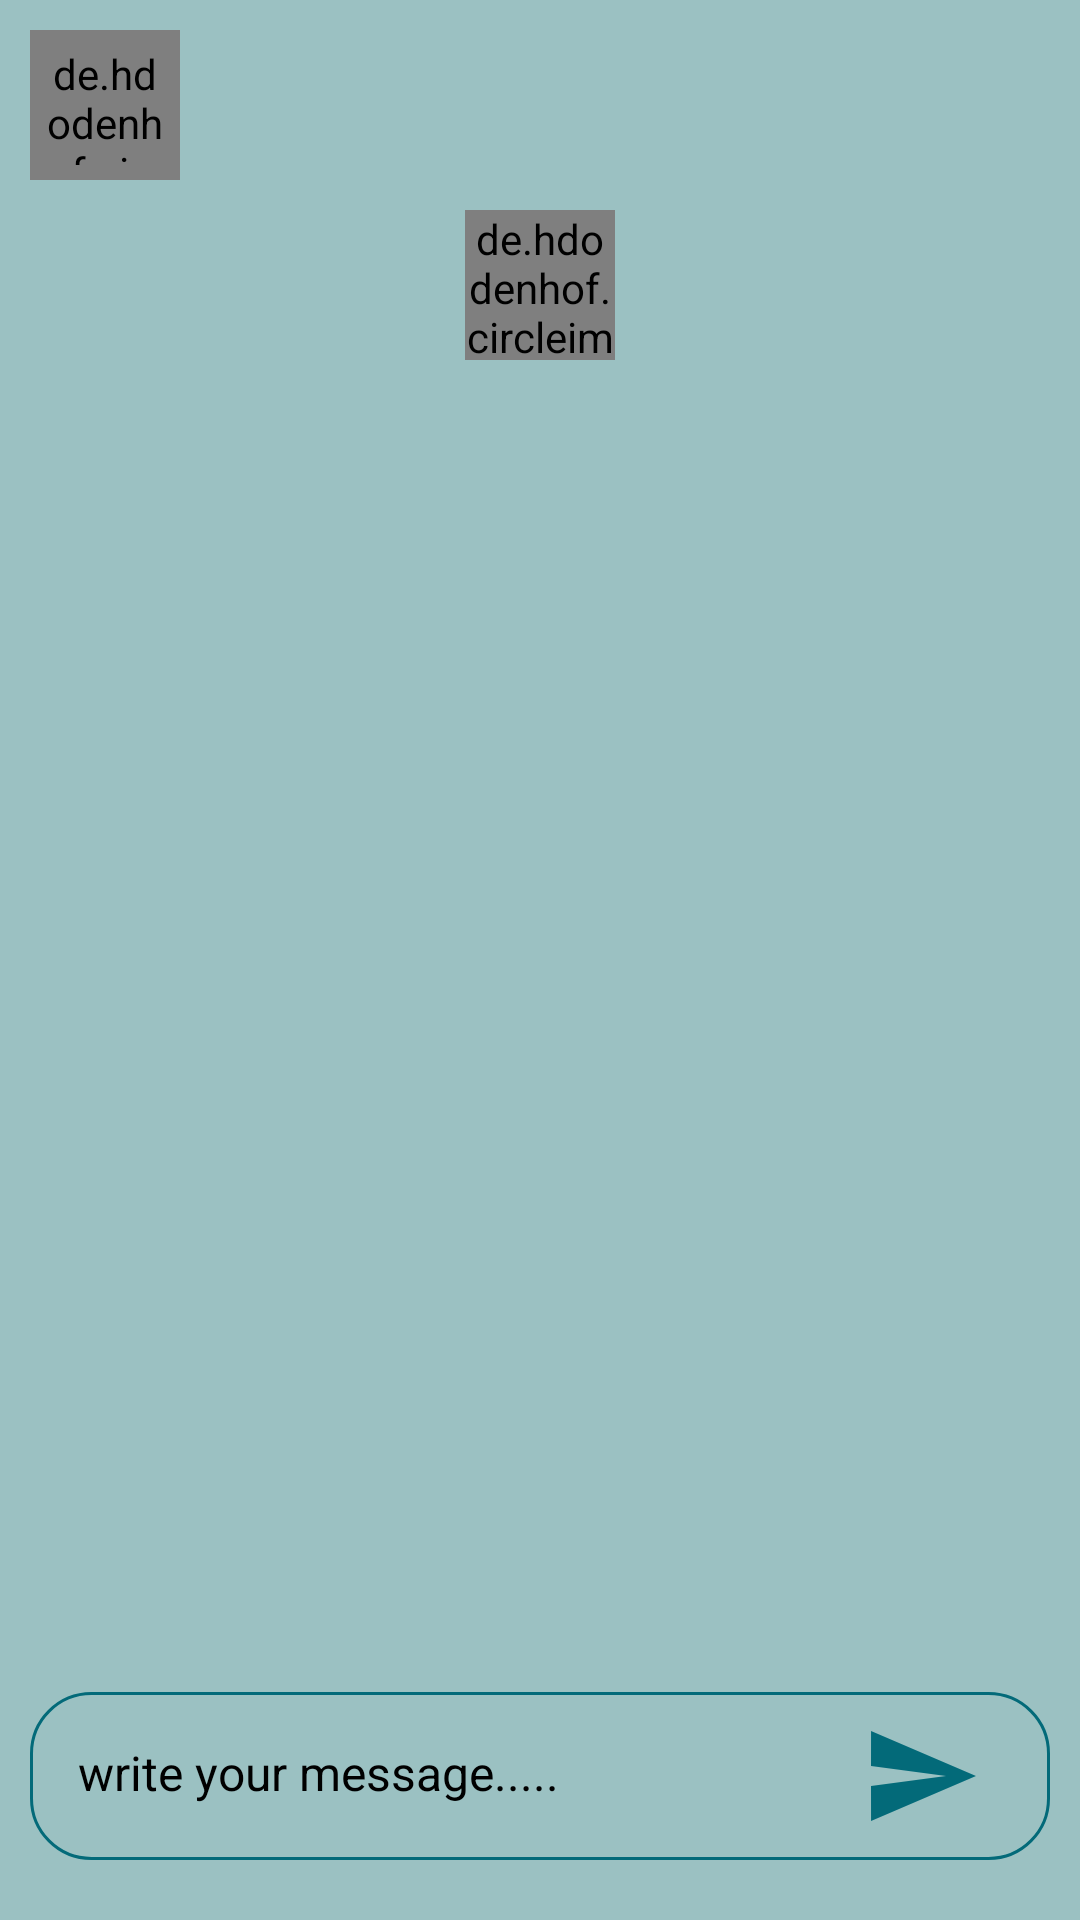

Where to tap for icons on this 1080px×1920px app screen, as point (x, y):
send: point (923, 1776)
